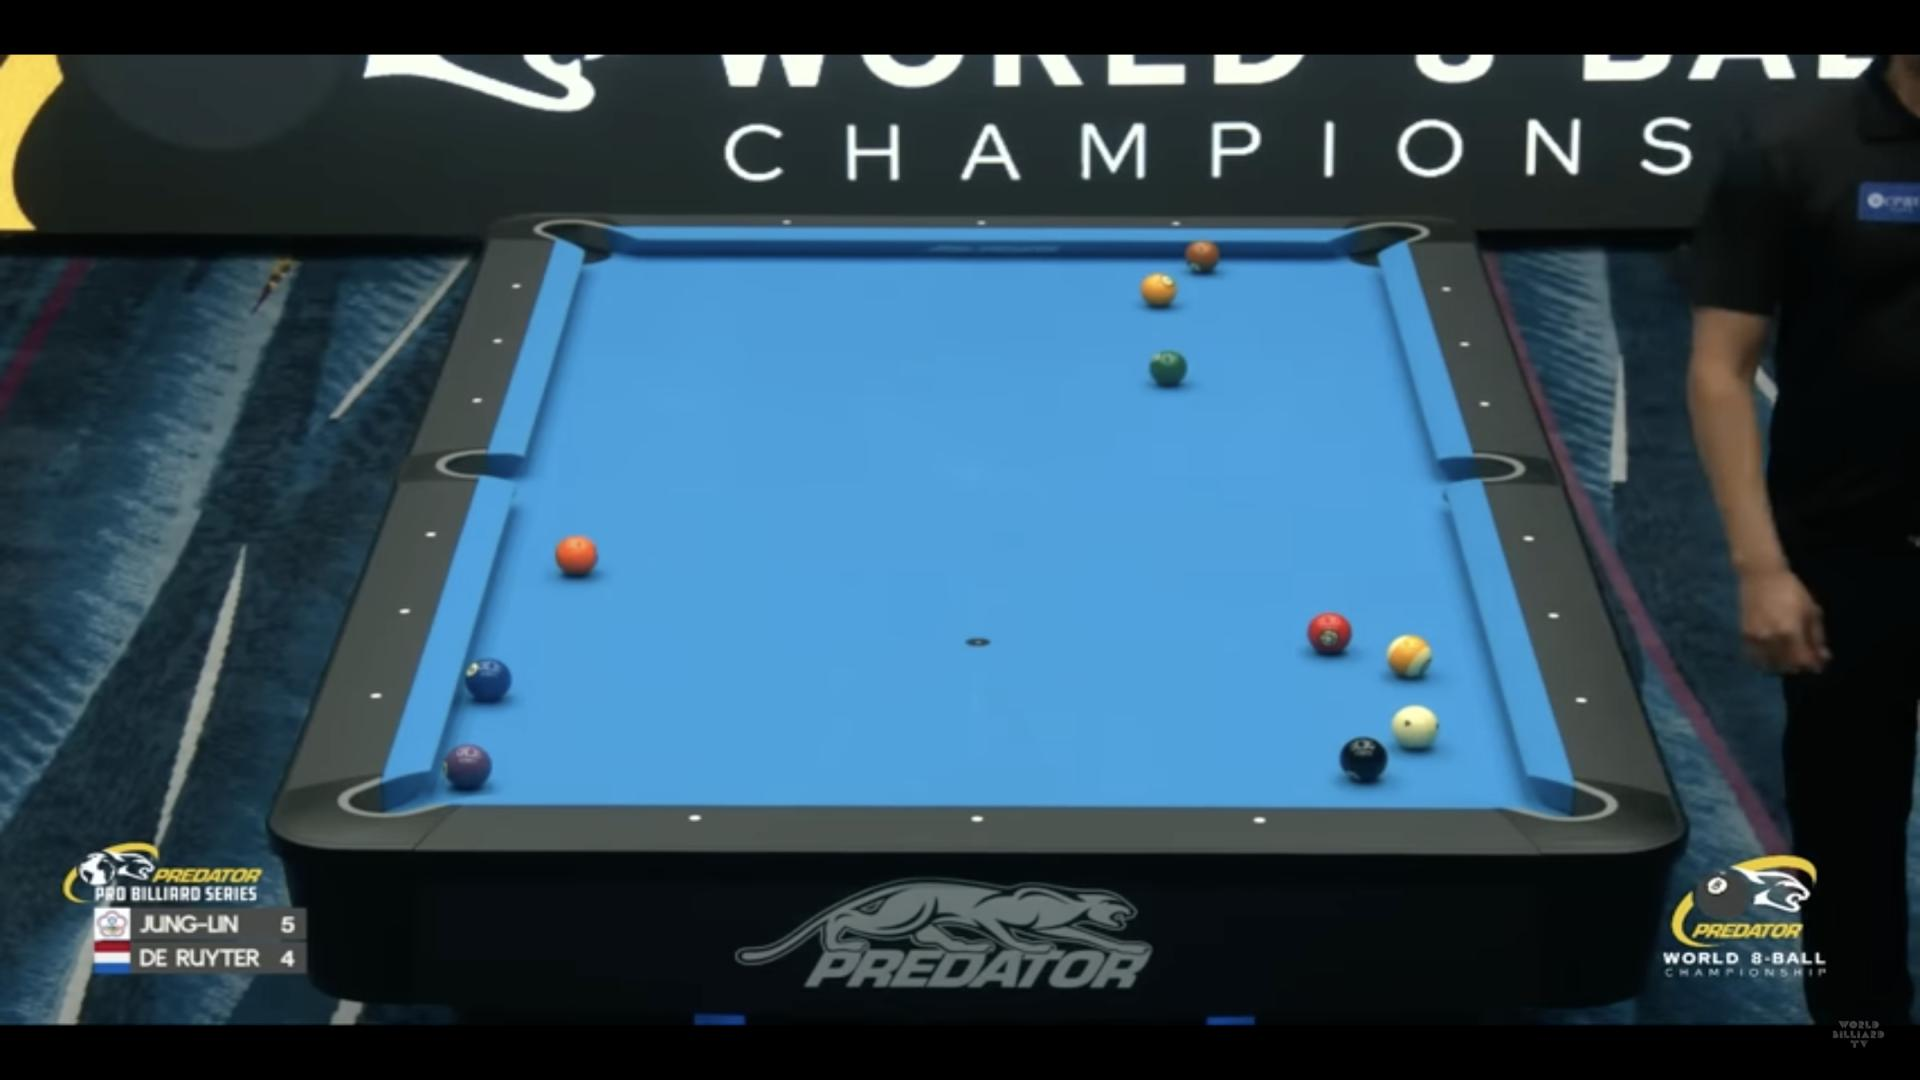Black: (1340, 737, 1387, 782)
Cue: (1393, 705, 1440, 749)
Dot: (684, 811, 704, 828), (968, 811, 986, 828), (1250, 811, 1269, 828), (1573, 694, 1588, 707), (1545, 608, 1560, 621), (1522, 533, 1535, 546), (1478, 397, 1491, 410), (398, 605, 413, 617), (425, 529, 439, 541), (369, 690, 382, 702), (471, 396, 484, 407), (492, 335, 505, 347), (510, 281, 524, 293), (1458, 339, 1472, 351), (1440, 284, 1453, 295), (1170, 218, 1183, 229), (975, 218, 988, 229), (781, 215, 793, 227)
Solid: (443, 744, 492, 789), (465, 658, 512, 699), (1307, 613, 1352, 653), (555, 535, 597, 575), (1139, 272, 1178, 306), (1150, 349, 1188, 384), (1184, 240, 1221, 272)
Striped: (1386, 634, 1432, 678)
